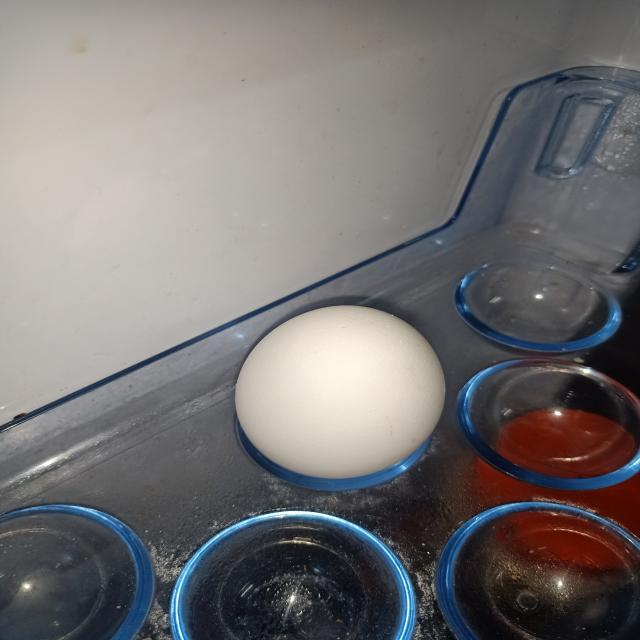Egg: (214, 290, 498, 495)
